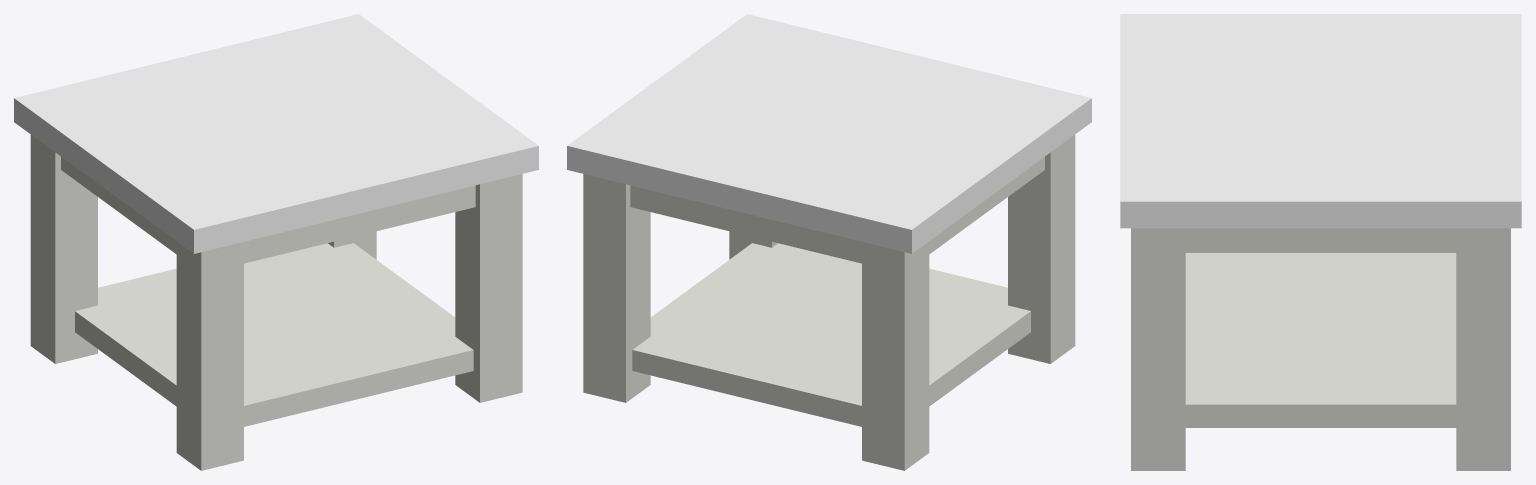
File: Table_6A.fbx
The picture shows the model from 3 angles, left to right: view 1: azimuth 30°, elevation 25°; view 2: azimuth 150°, elevation 25°; view 3: azimuth 270°, elevation 25°; orthographic projection. The views are drawn at different scales.
Parts seen in each view (by area): view 1: polySurface2100; view 2: polySurface2100; view 3: polySurface2100.
Boxes of the visible parts, x1,y1,x2,y2 form: polySurface2100: (14, 14, 538, 470); polySurface2100: (567, 14, 1091, 470); polySurface2100: (1120, 14, 1521, 470).
Bounding box in the file's own units: 1.05 × 0.72 × 0.95.
Materials: 1 (1 with a texture image).
